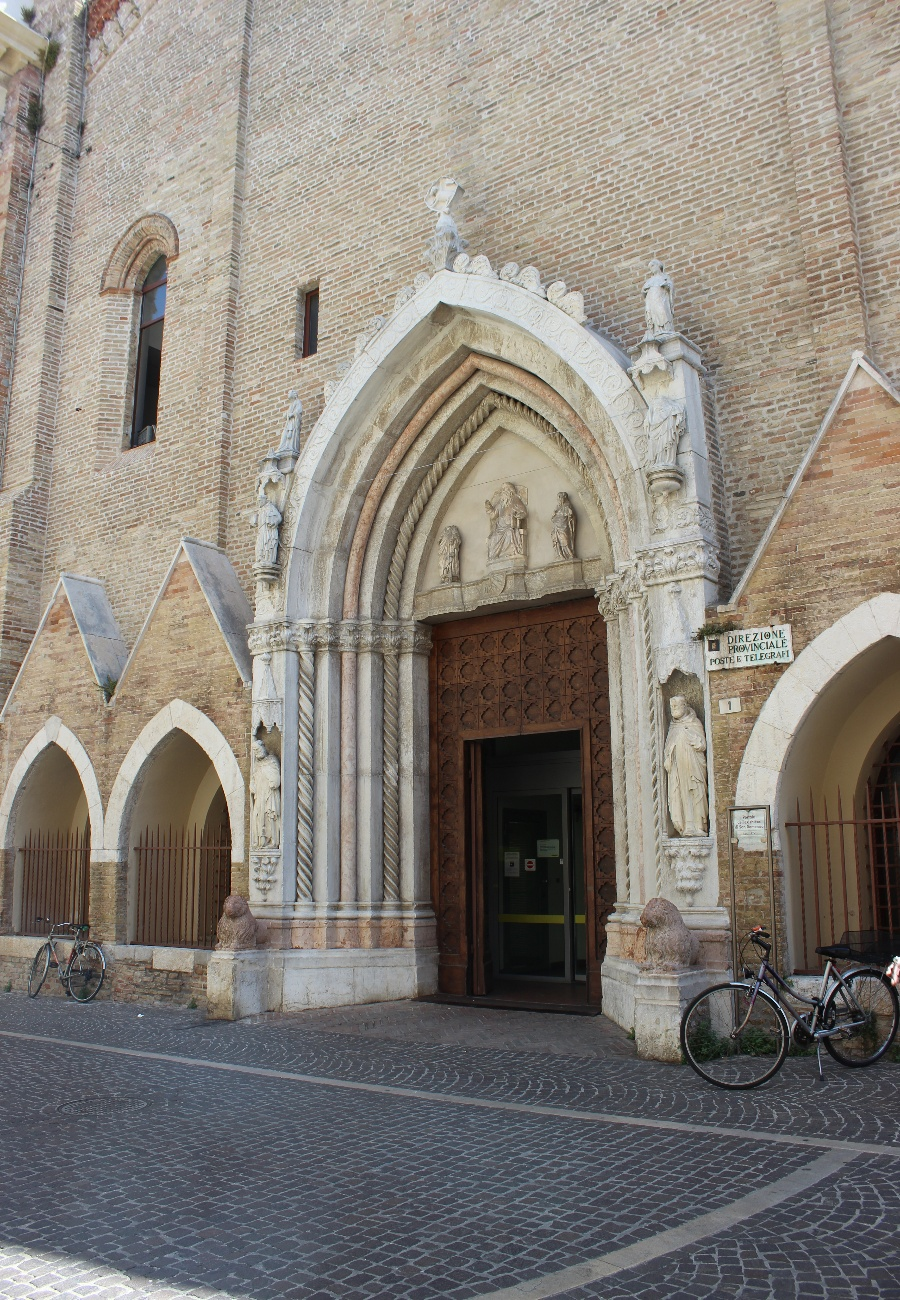Portale San Domenico: (212, 179, 719, 1007)
